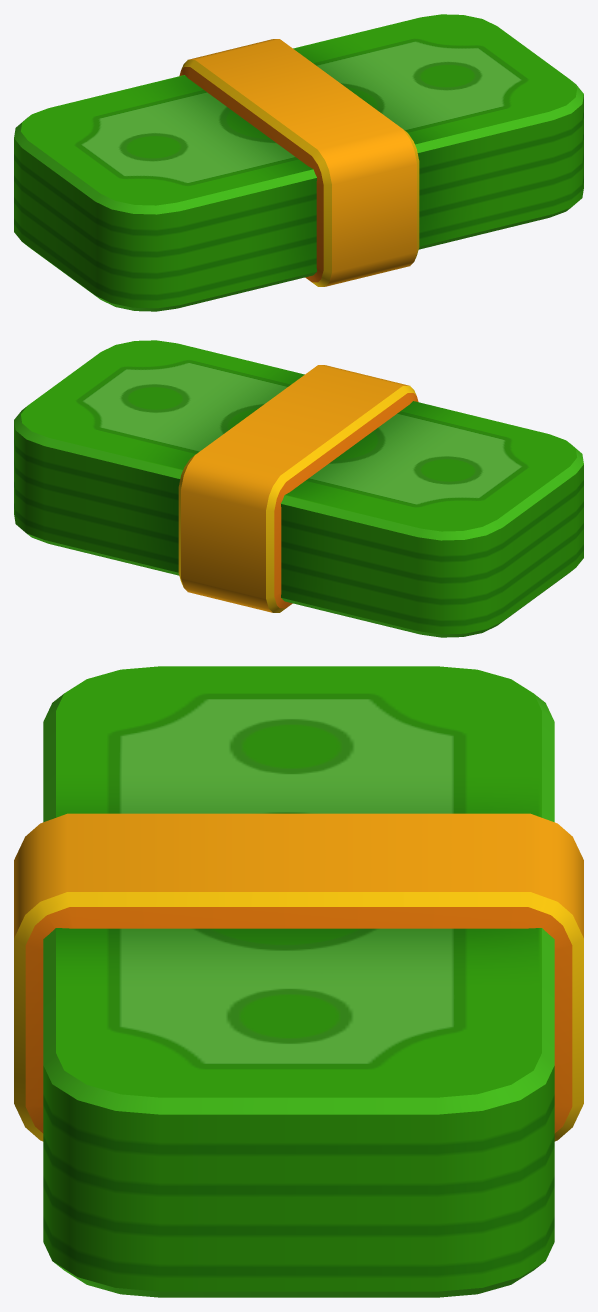
The model's file is money_2.fbx.
The picture shows the model from 3 angles, top to bottom: view 1: azimuth 30°, elevation 25°; view 2: azimuth 150°, elevation 25°; view 3: azimuth 270°, elevation 25°; orthographic projection. The views are drawn at different scales.
Visible parts, largest first — view 1: money_2; view 2: money_2; view 3: money_2.
Boxes of the visible parts, bbox=[...] form: money_2: bbox=[14, 14, 583, 311]; money_2: bbox=[14, 340, 583, 637]; money_2: bbox=[14, 666, 583, 1297].
Bounding box in the file's own units: 94.21 × 25.65 × 51.31.
